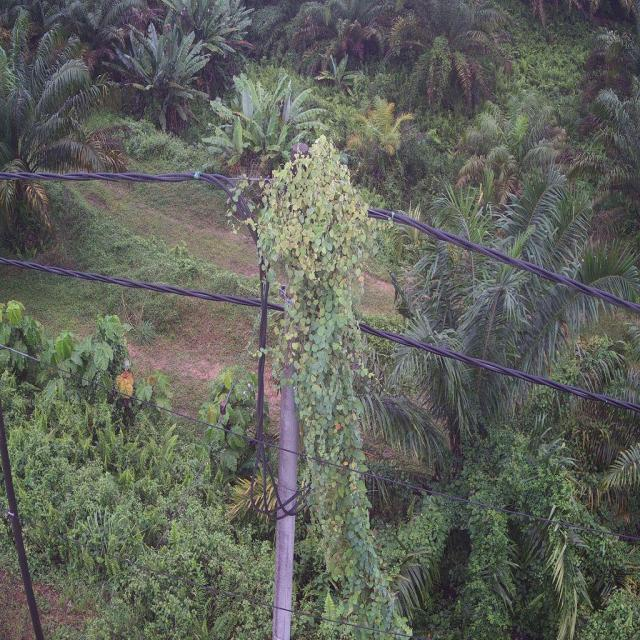critical vegetation: (220, 128, 387, 606)
